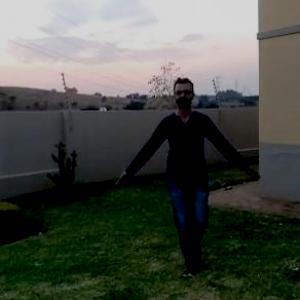land: (137, 88, 237, 263)
